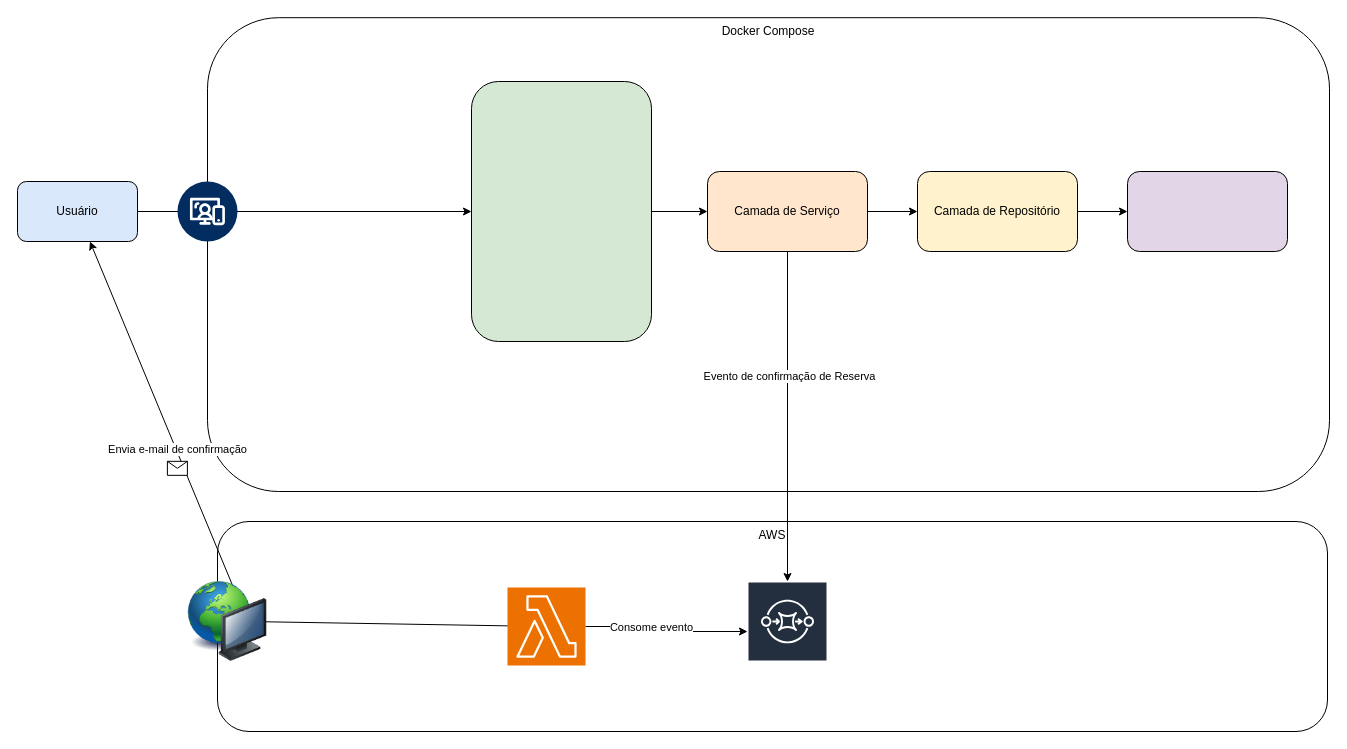
Image size: 1347x749. Some labels were removed from this diagram. Each missing label, with the centre of its shape:
"Amazon SQS" belongs at (787,631).
"APIs" belongs at (561,211).
"Banco de Dados H2" belongs at (1207,211).
